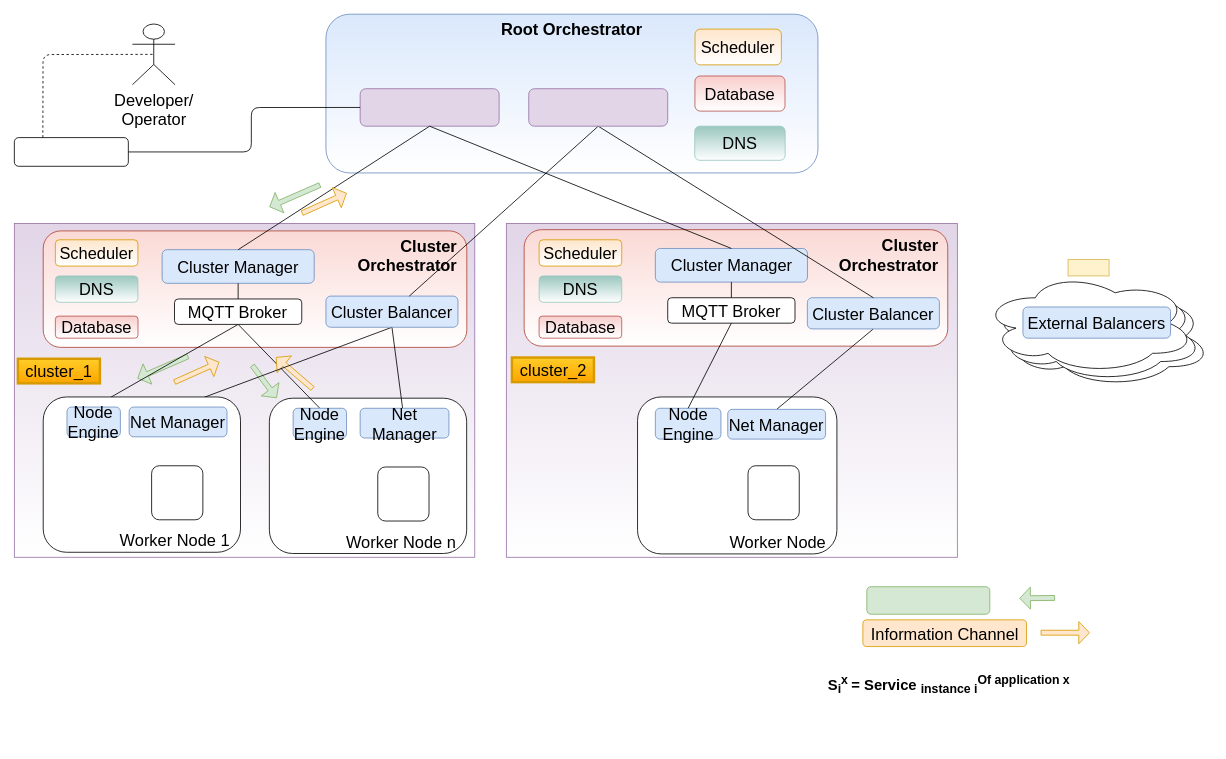
Some shapes in this 1226 by 759 pixel diagram are drawn without their labels. The shapes that lost their labels are listed below. From the top down, each one's centre as x and y in pixels, then its label:
(429,107): System Manager
(598,107): Root service manager
(71,151): CLI
(1088,267): Optional
(177,492): S i y
(403,493): S j y
(773,492): S i h
(928,600): Control Channel
